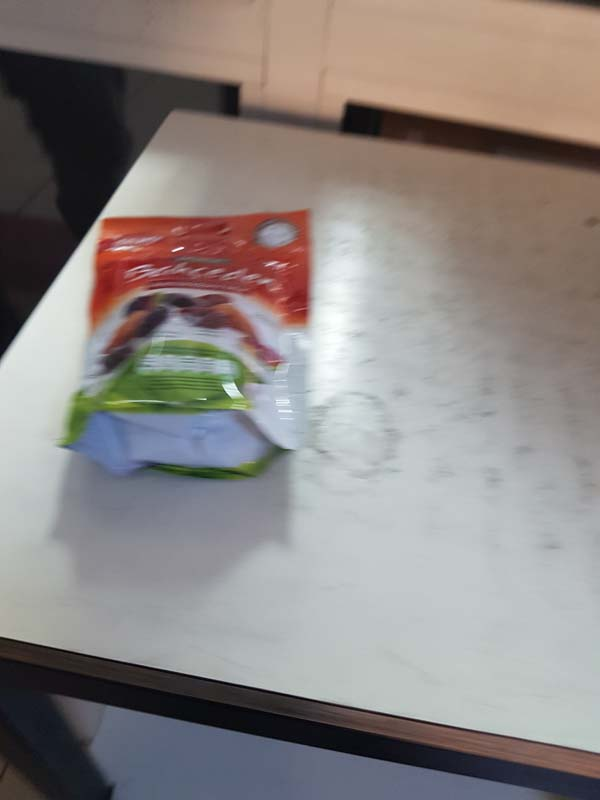bahcedenantioxidan: (61, 207, 314, 484)
